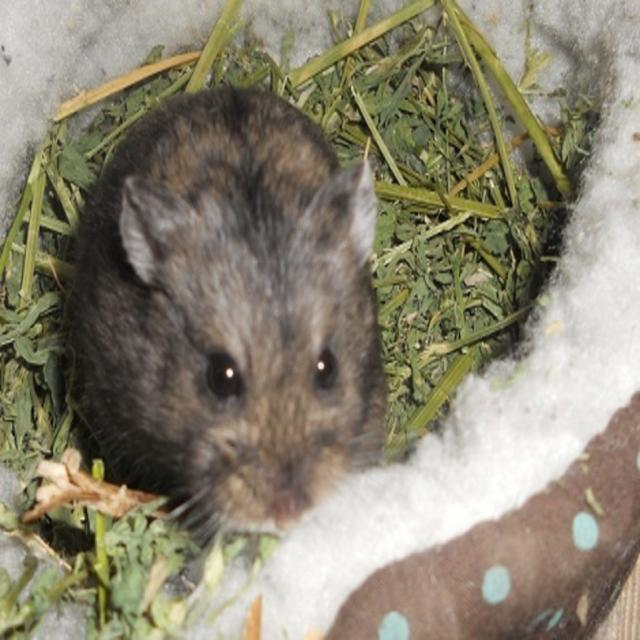rat: (50, 96, 391, 544)
